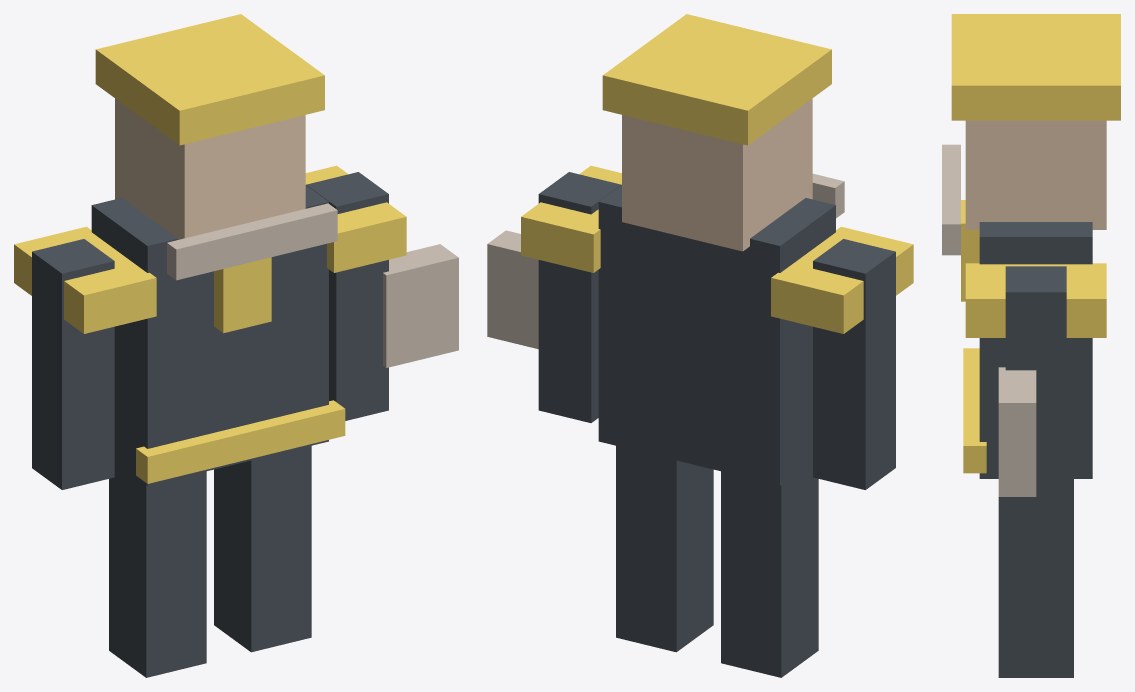
File: 09_pax_gearmantle_captain_from_main.glb
3 renders of one model, left to right at view 1: azimuth 30°, elevation 25°; view 2: azimuth 150°, elevation 25°; view 3: azimuth 270°, elevation 25°, orthographic.
Visible parts, largest first — view 1: Pax Gearmantle, Captain from Main; view 2: Pax Gearmantle, Captain from Main; view 3: Pax Gearmantle, Captain from Main.
Part boxes in pixels (x1,y1,x2,y2): Pax Gearmantle, Captain from Main: (14, 14, 458, 677); Pax Gearmantle, Captain from Main: (487, 14, 913, 677); Pax Gearmantle, Captain from Main: (942, 14, 1120, 677).
Bounding box in the file's own units: 1.03 × 1.46 × 0.4019.
